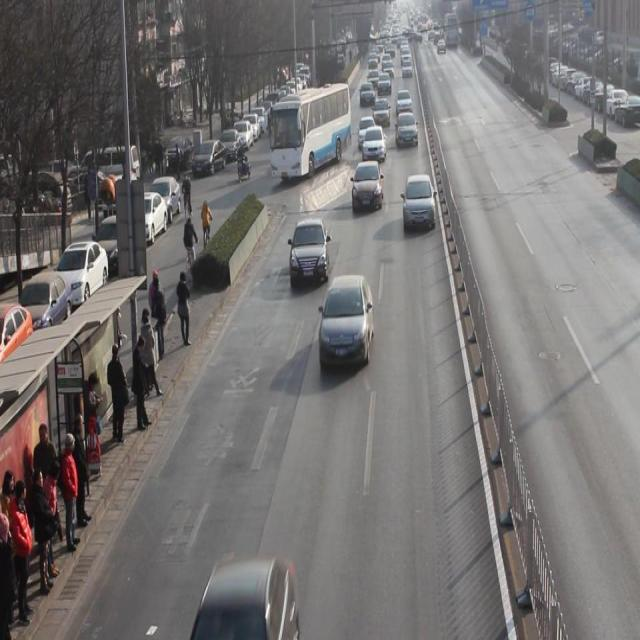car: (319, 275, 376, 372), (290, 218, 331, 288), (403, 176, 437, 232), (352, 161, 385, 215), (363, 126, 388, 163), (396, 113, 419, 149), (358, 118, 379, 152), (373, 99, 391, 130)
van: (269, 81, 352, 181)
